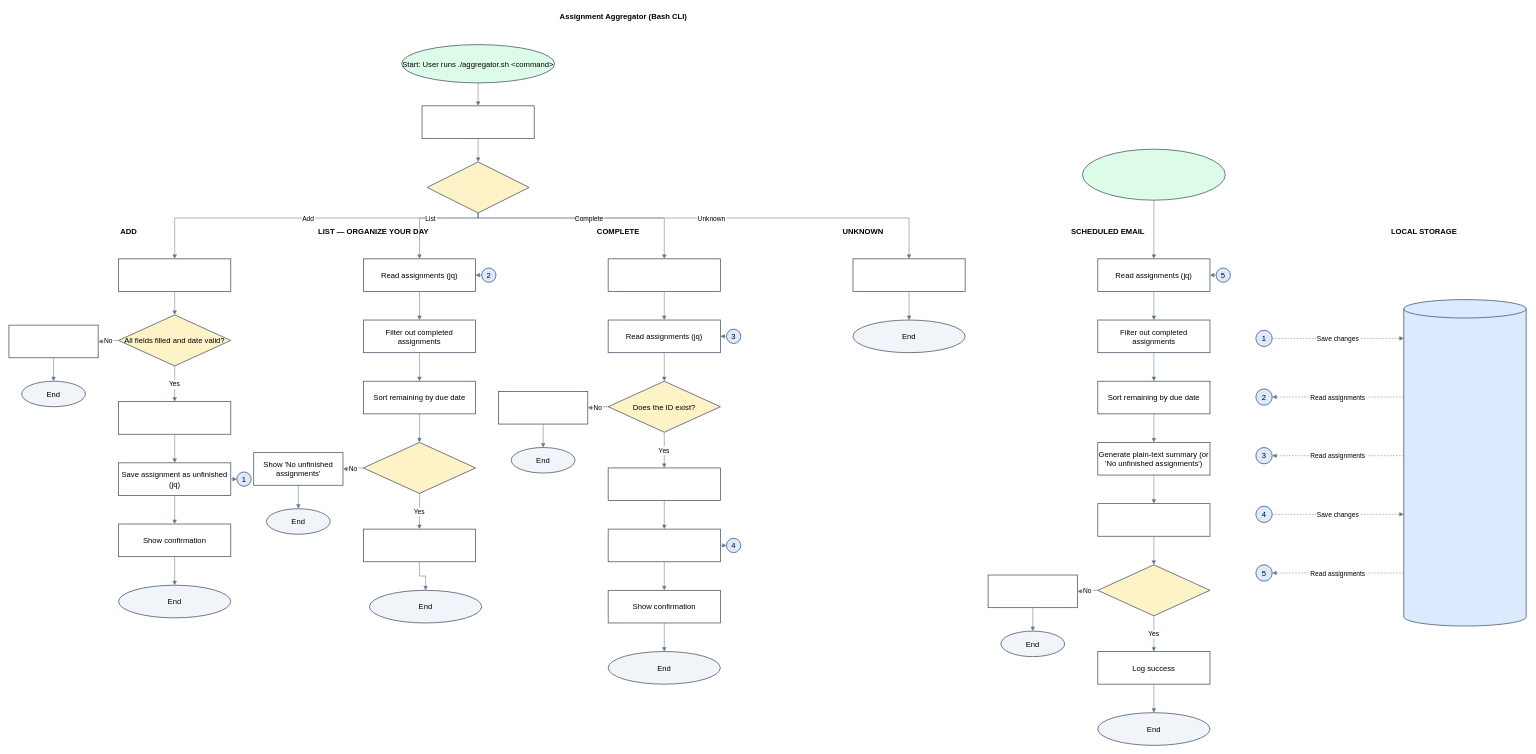
Image size: 1536x754. Some labels were removed from this diagram. Here are the shapes that lost their labels. From the top down, the centre of each, then its label:
(x=477, y=122): Read command entered by user
(x=478, y=187): Which command?
(x=1153, y=174): Start: cron triggers at 12:00 AM and 6:00 PM daily
(x=174, y=275): Enter assignment name, class, and due date
(x=664, y=275): Enter assignment ID
(x=908, y=275): Show available commands
(x=53, y=341): Show error message
(x=174, y=417): Create unique assignment ID
(x=543, y=407): Show 'Assignment not found'
(x=419, y=468): Any unfinished assignments?
(x=1464, y=462): assignments.json
(x=664, y=484): Mark assignment complete (jq)
(x=1153, y=519): Send summary via email provider (curl)
(x=419, y=545): Display today's ordered list
(x=664, y=545): Save updated file
(x=1033, y=591): Log email error
(x=1153, y=590): Email sent successfully?
